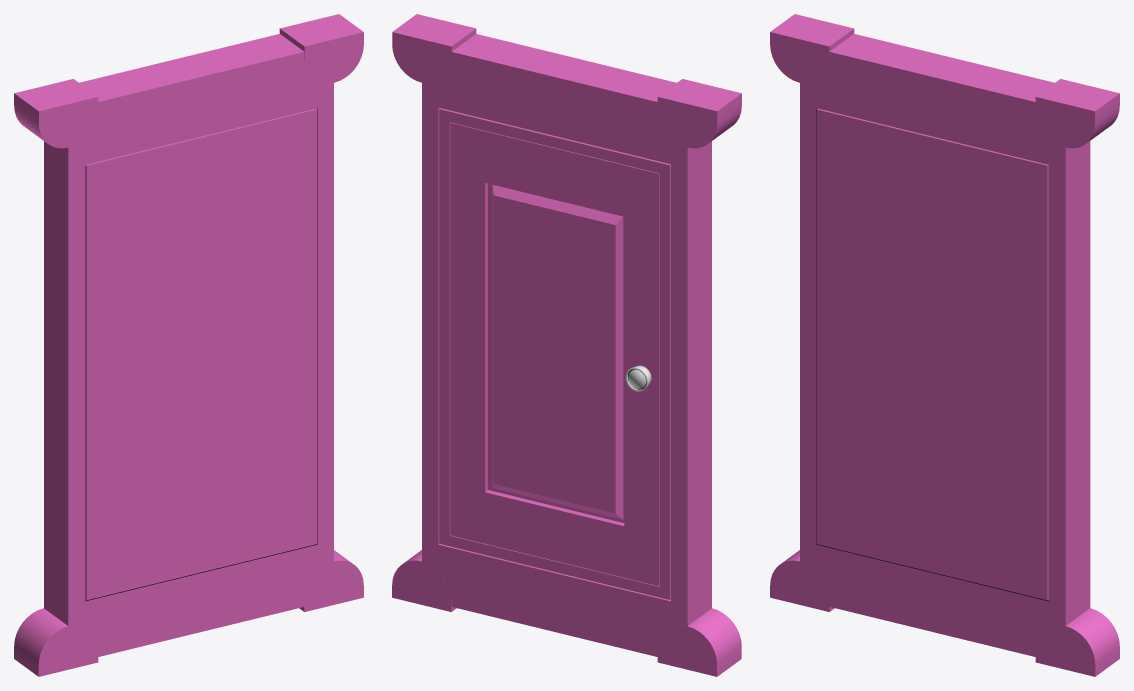
The model's file is pintu kemana saja.fbx.
3 renders of one model, left to right at view 1: azimuth 30°, elevation 25°; view 2: azimuth 150°, elevation 25°; view 3: azimuth 330°, elevation 25°, orthographic.
Visible parts, largest first — view 1: Cube, Cube.001, Cube.003, Cube.002, Cylinder.003, Cylinder; view 2: Cube, Cube.001, Cube.003, Cube.002, Cylinder.003, Cylinder, Cylinder.004; view 3: Cube, Cube.001, Cube.003, Cube.002, Cylinder.003, Cylinder.
Boxes of the visible parts, x1,y1,x2,y2 form: Cube: (85,108,317,600); Cube.001: (44,83,333,625); Cube.003: (68,34,333,147); Cube.002: (44,561,333,656); Cylinder.003: (14,14,363,148); Cylinder: (14,550,363,676); Cube: (439,108,670,599); Cube.001: (422,83,711,625); Cube.003: (422,34,687,147); Cube.002: (422,561,711,656); Cylinder.003: (392,14,741,148); Cylinder: (392,550,741,676); Cylinder.004: (625,365,651,391); Cube: (816,108,1048,600); Cube.001: (800,83,1090,625); Cube.003: (800,34,1065,147); Cube.002: (800,561,1089,656); Cylinder.003: (770,14,1119,148); Cylinder: (770,550,1119,676).
Size of the model in its own units: 282 by 468 by 45.94.
